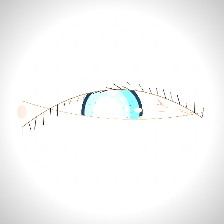corneal_ulcer: (78, 91, 137, 139)
